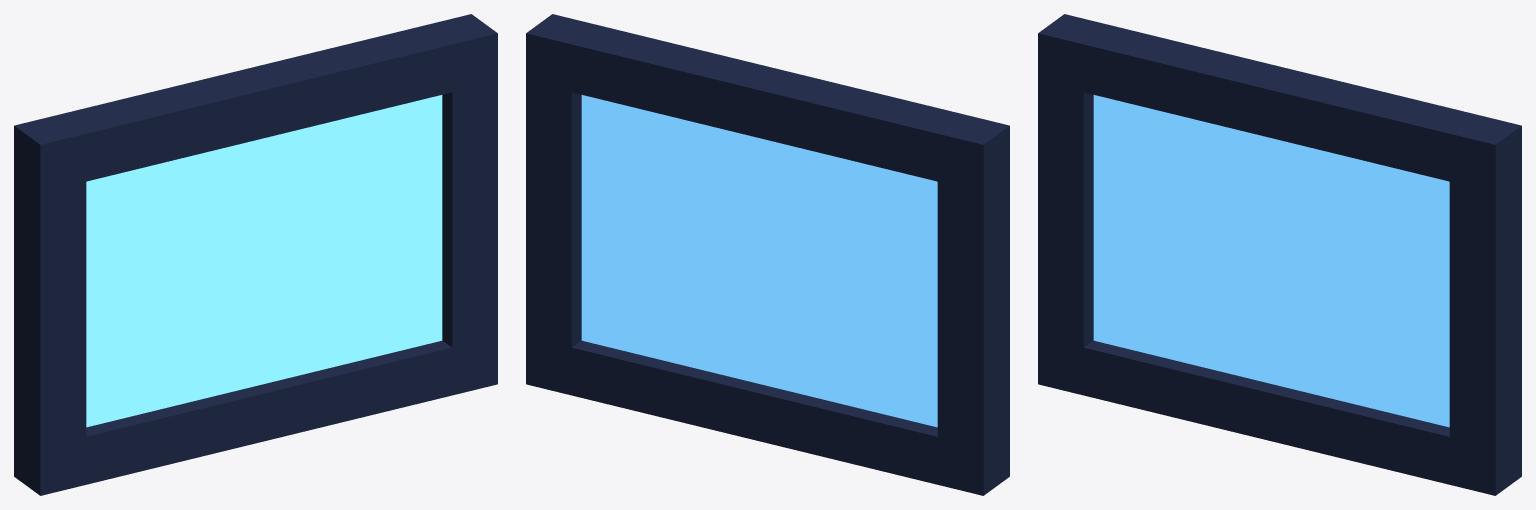
Rendered from stationpack-window-pane.glb.
3 views of the same model, side by side, from view 1: azimuth 30°, elevation 25°; view 2: azimuth 150°, elevation 25°; view 3: azimuth 330°, elevation 25° (orthographic).
Visible parts, largest first — view 1: window_pane; view 2: window_pane; view 3: window_pane.
Boxes of the visible parts, <box> form: window_pane: <box>14,14,497,495</box>; window_pane: <box>526,14,1009,495</box>; window_pane: <box>1038,14,1521,495</box>.
Bounding box in the file's own units: 3 × 2.2 × 0.3.
